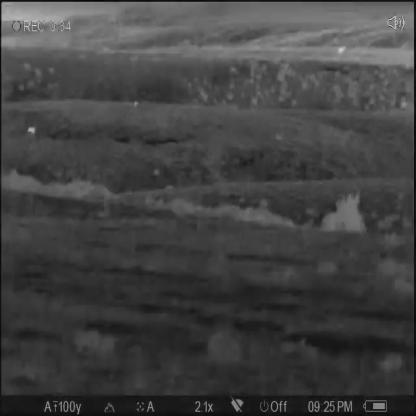rehkitze: (26, 125, 38, 136)
